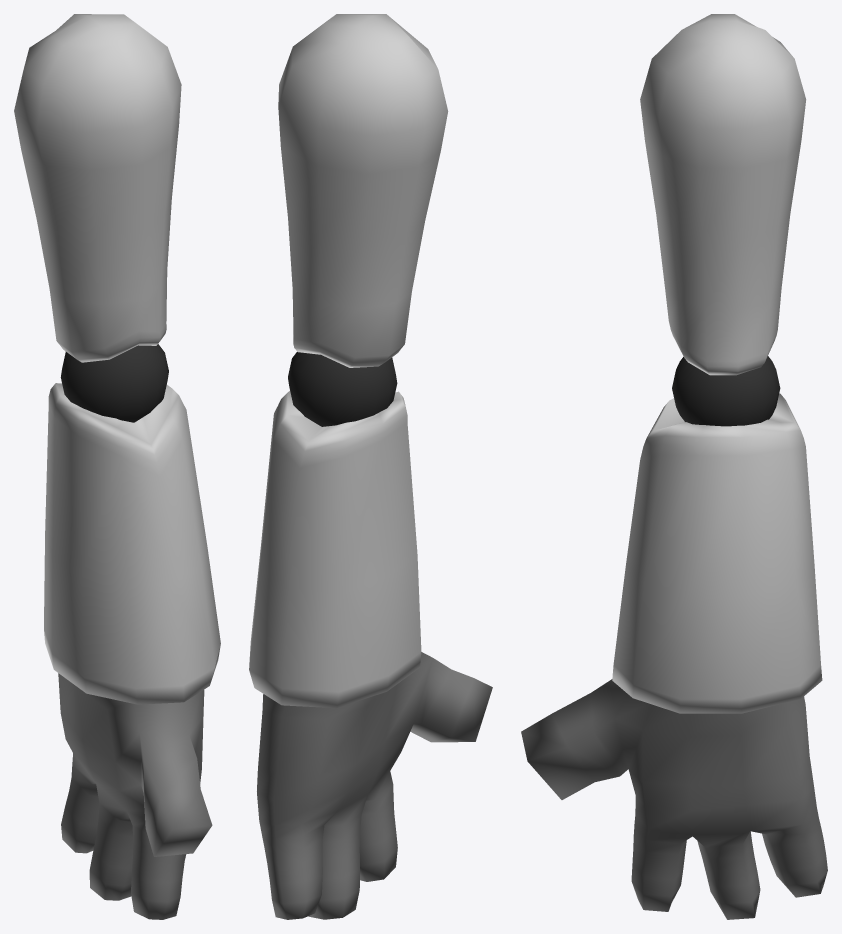
The model's file is left_hand.glb.
The picture shows the model from 3 angles, left to right: view 1: azimuth 30°, elevation 25°; view 2: azimuth 150°, elevation 25°; view 3: azimuth 270°, elevation 25°; orthographic projection.
Visible parts, largest first — view 1: geo_arm_bot_1, geo_arm_bot_1.002, geo_arm_bot_1.001, geo_arm_bot_1.003; view 2: geo_arm_bot_1.002, geo_arm_bot_1, geo_arm_bot_1.001, geo_arm_bot_1.003; view 3: geo_arm_bot_1, geo_arm_bot_1.002, geo_arm_bot_1.001, geo_arm_bot_1.003.
Boxes of the visible parts, left/top/right/bottom form: geo_arm_bot_1: left=44, top=383, right=220, bottom=704; geo_arm_bot_1.002: left=14, top=14, right=181, bottom=362; geo_arm_bot_1.001: left=58, top=673, right=212, bottom=919; geo_arm_bot_1.003: left=60, top=344, right=168, bottom=422; geo_arm_bot_1.002: left=278, top=14, right=448, bottom=367; geo_arm_bot_1: left=249, top=391, right=421, bottom=708; geo_arm_bot_1.001: left=257, top=652, right=492, bottom=919; geo_arm_bot_1.003: left=288, top=352, right=397, bottom=426; geo_arm_bot_1: left=612, top=393, right=822, bottom=713; geo_arm_bot_1.002: left=640, top=14, right=806, bottom=375; geo_arm_bot_1.001: left=521, top=679, right=827, bottom=919; geo_arm_bot_1.003: left=672, top=356, right=780, bottom=426.
Size of the model in its own units: 0.0626 by 0.3045 by 0.0963.
1 material, 1 textured.
